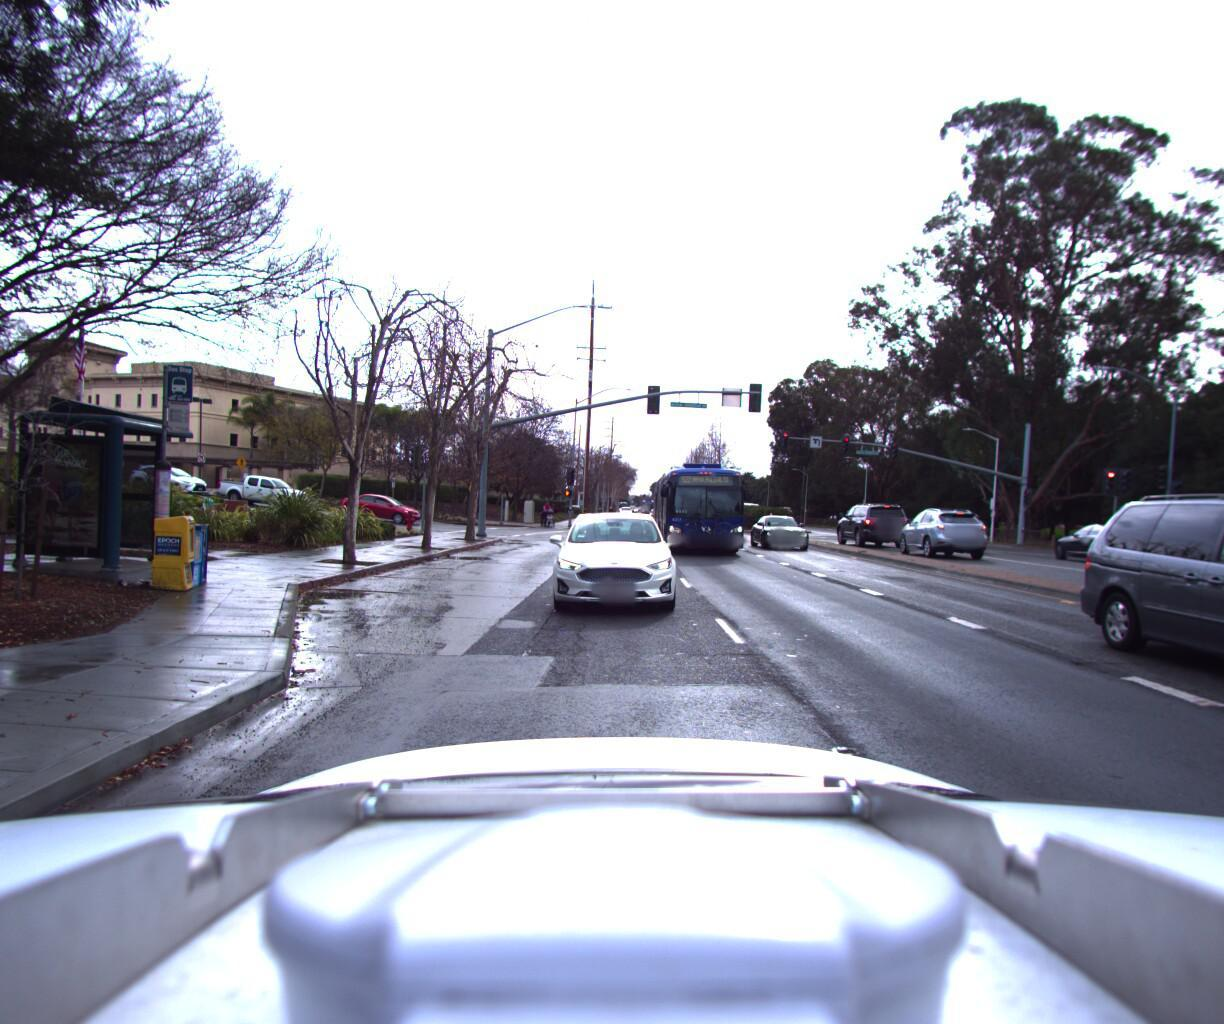bus: (646, 460, 755, 567)
car: (1067, 466, 1224, 764), (535, 493, 684, 634), (890, 508, 999, 564), (1052, 523, 1174, 571), (832, 505, 916, 553), (217, 479, 322, 515), (339, 497, 432, 529), (747, 513, 806, 554)
